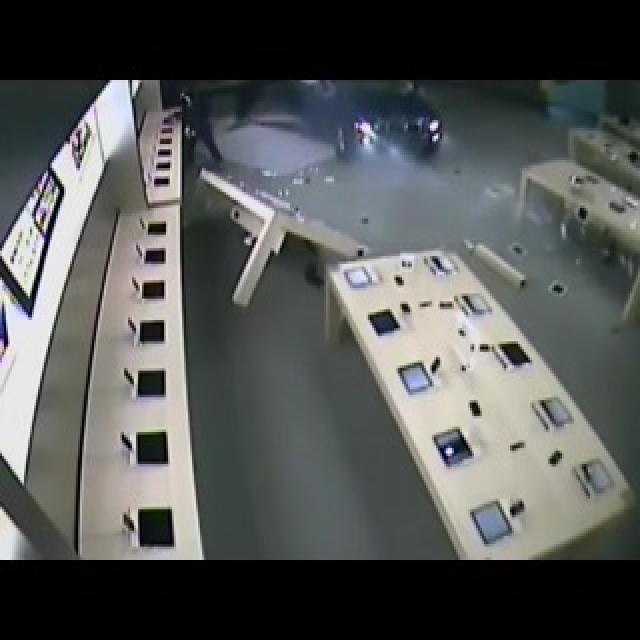burglary: (258, 75, 464, 180)
thief: (177, 88, 230, 146)
